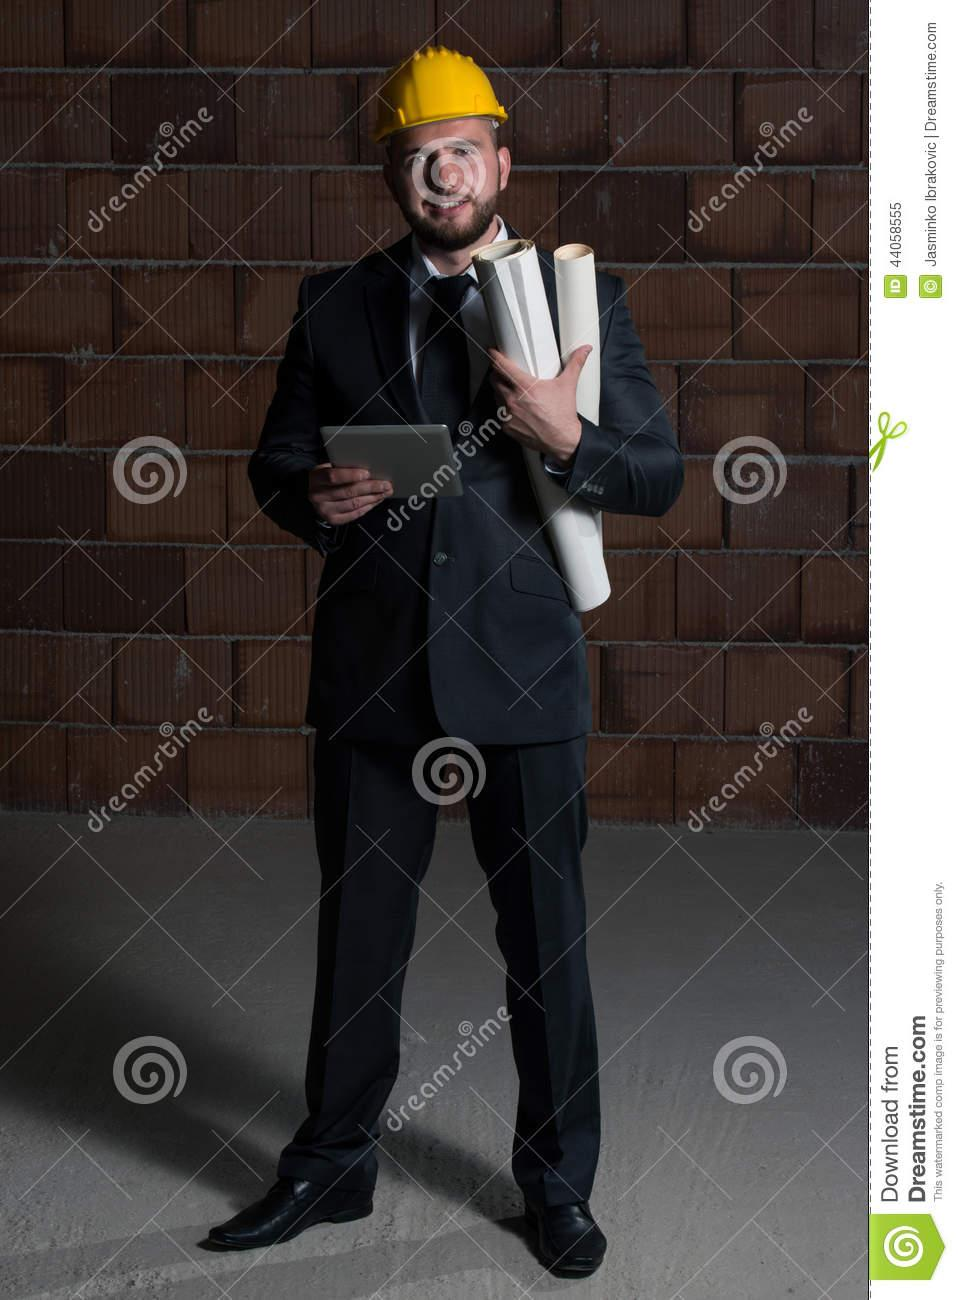helmet: (382, 48, 510, 138)
